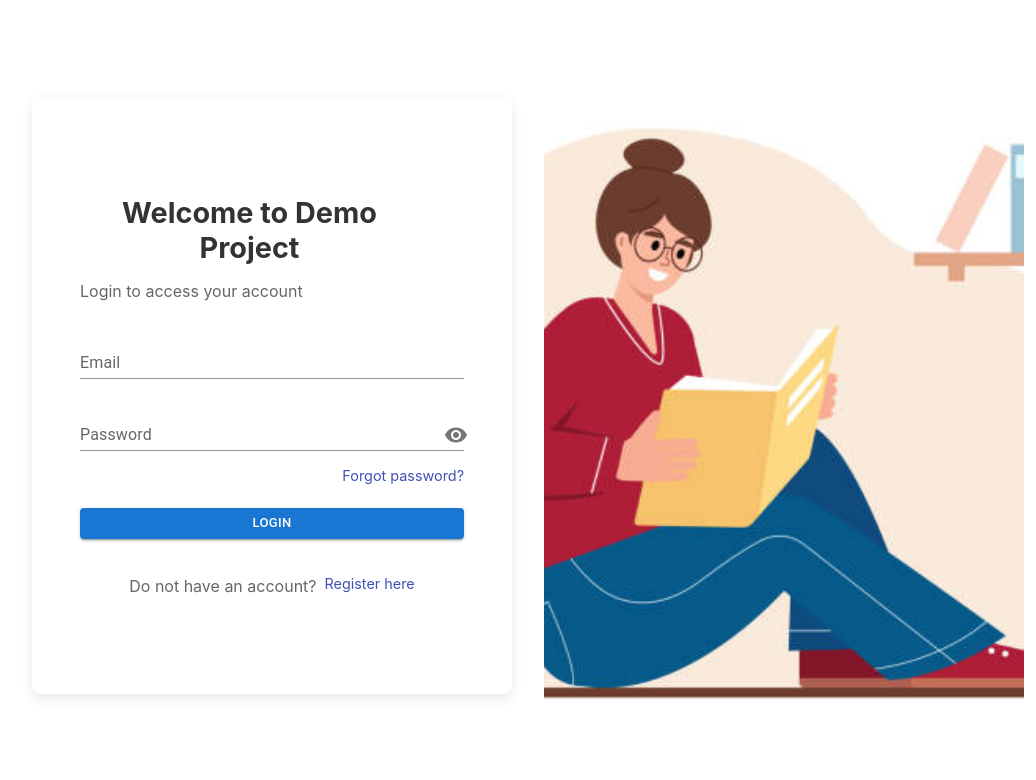
Test: Login spec › validates form fields with incorrect inputs
The image size is (1036, 780).
What coordinates should you click on to do the following:
click the submit button
I would click on:
 (272, 525)
Its box is [80, 509, 464, 540].
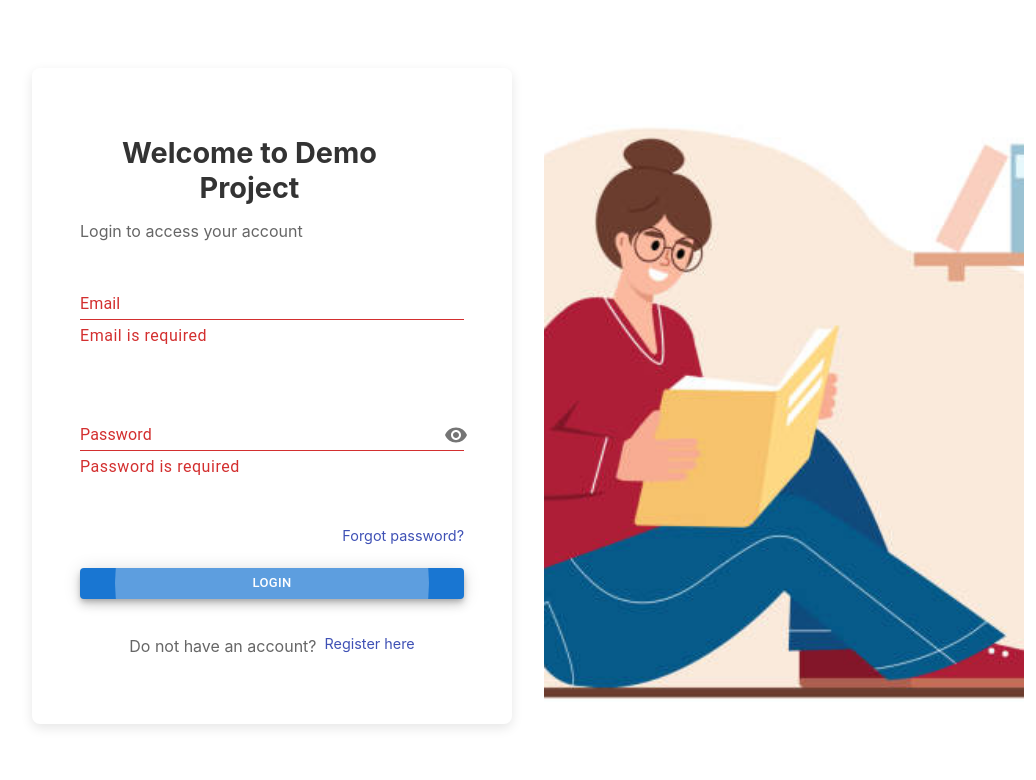
Now the text "Email is required" is shown, box [80, 326, 207, 344]
Now the text "Password is required" is shown, box [80, 458, 240, 476]
